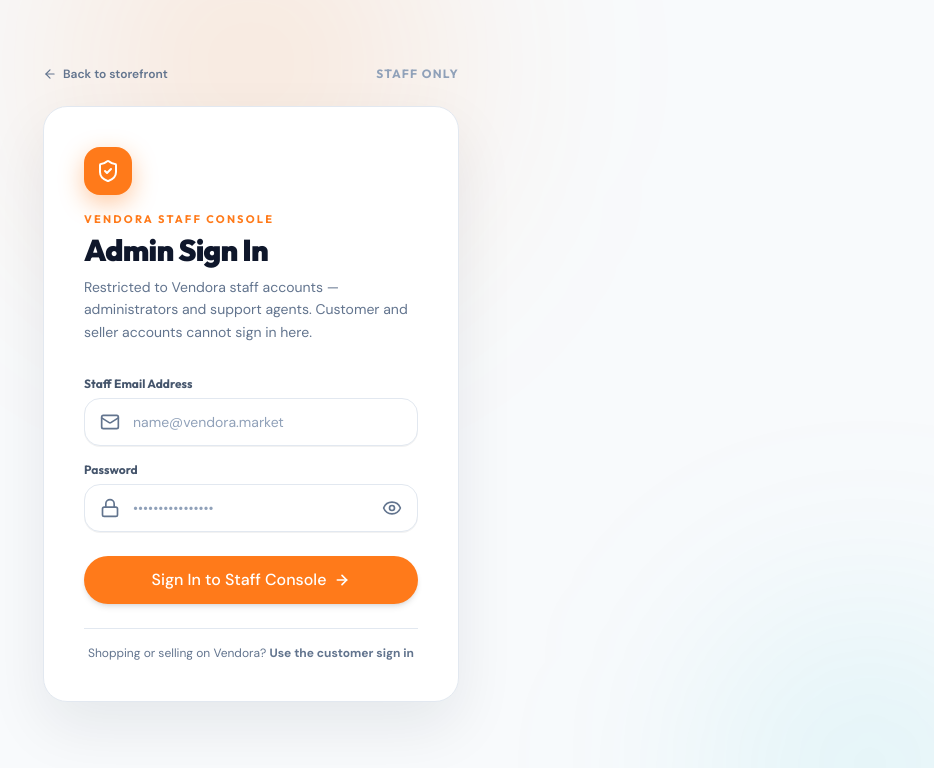
AdminLoginPage › non-staff sign-in is signed back out and shown the denial, before any MFA step
This screenshot has width=934, height=768.
Type "someone@vendora.market" into the field labelled "Staff Email Address" at (251, 422), box [84,398,418,446]
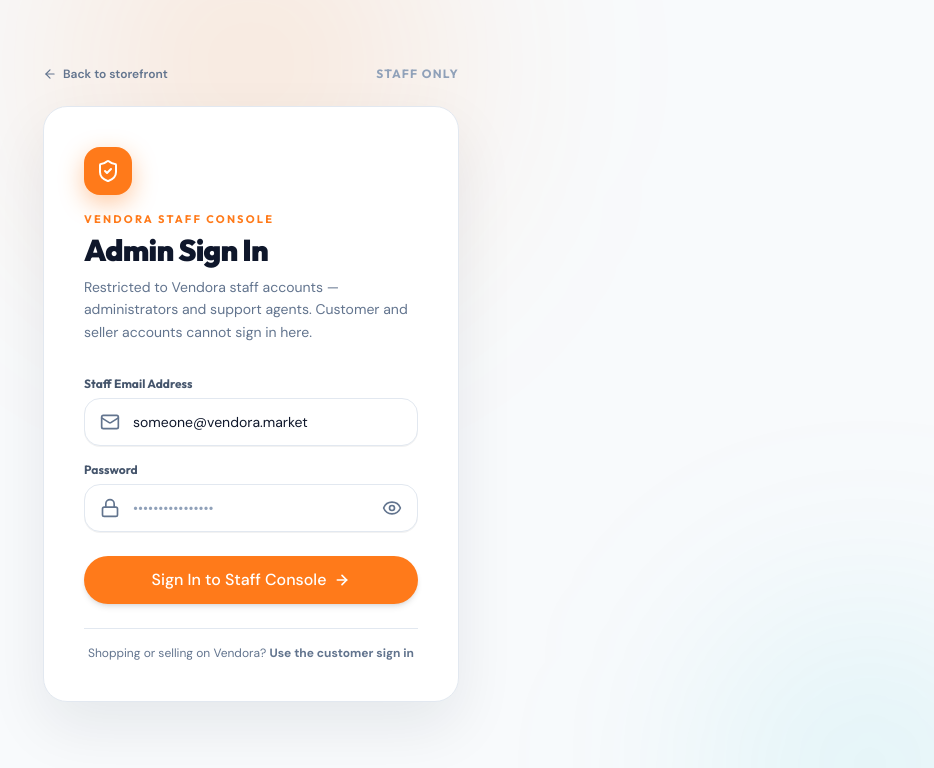
Type "password123" into the password field labelled "Password" at (251, 508), box [84,484,418,532]
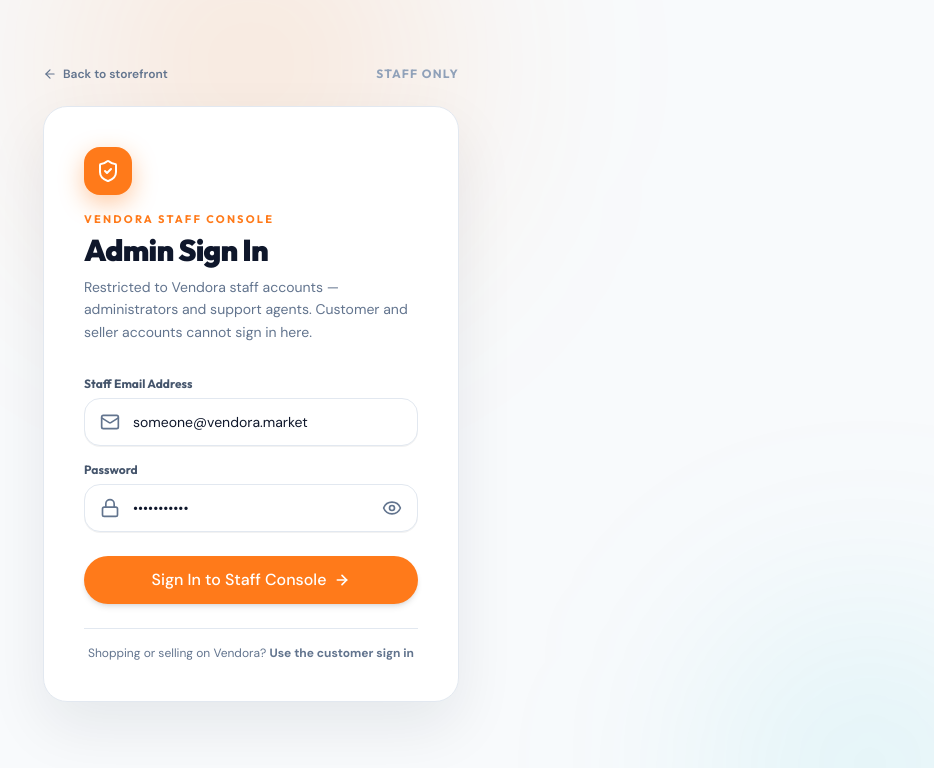
Click the button "Sign In to Staff Console" at (251, 580), box [84,556,418,604]
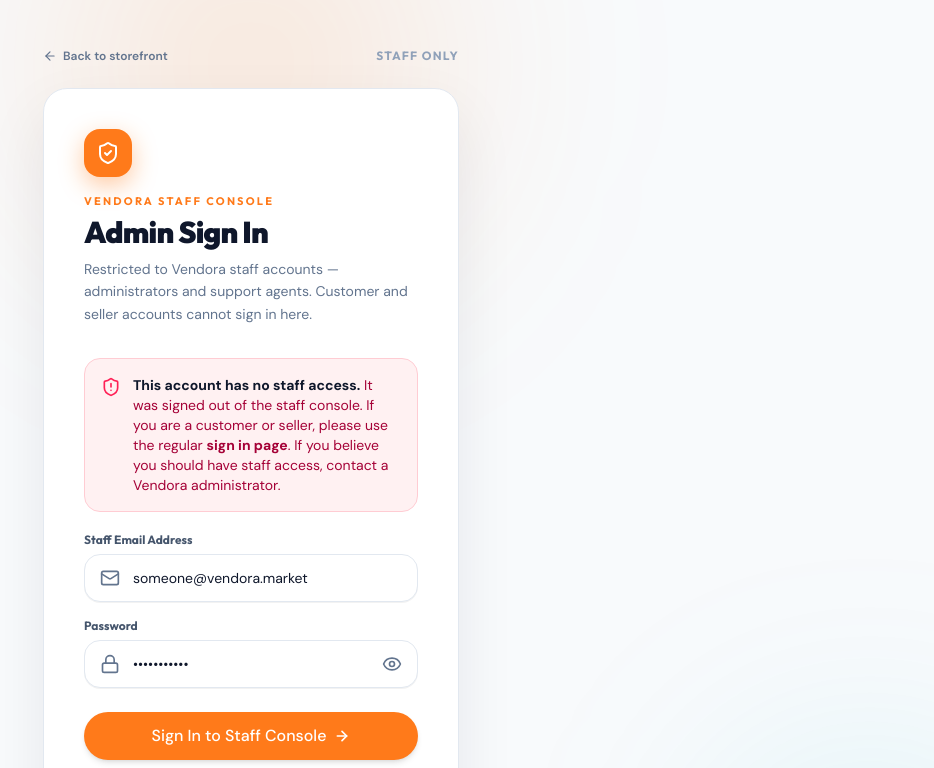
expect the heading "Admin Sign In" is shown: met, box [84,212,268,250]
expect the text "This account has no staff access." is shown: met, box [133,376,360,394]
